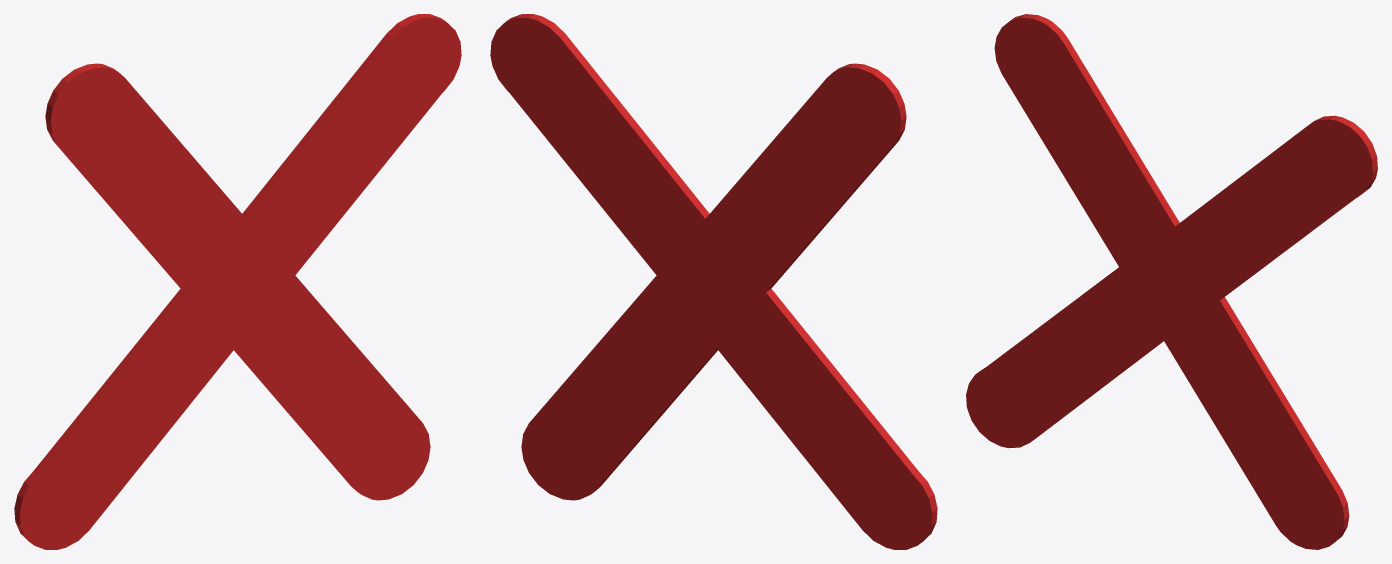
File: converted_link2_19_d12626ff.obj
3 renders of one model, left to right at view 1: azimuth 30°, elevation 25°; view 2: azimuth 150°, elevation 25°; view 3: azimuth 330°, elevation 25°, orthographic. The views are drawn at different scales.
Bounding box in the file's own units: 0.00472 × 0.00514 × 0.0001.
